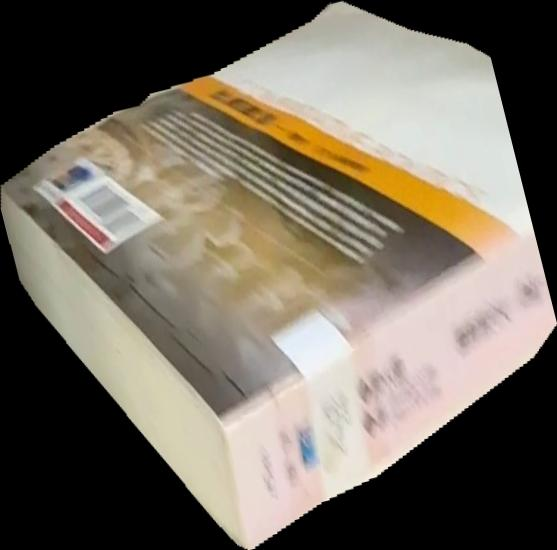flat: (1, 1, 557, 550)
